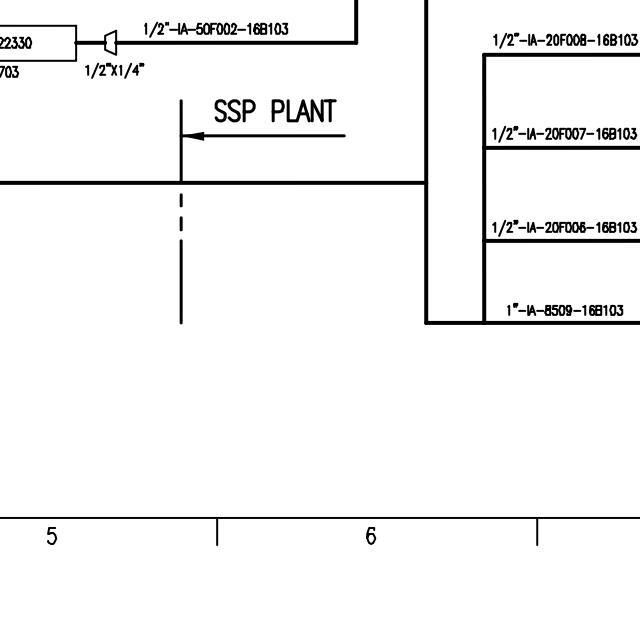SP: (101, 28, 119, 57)
